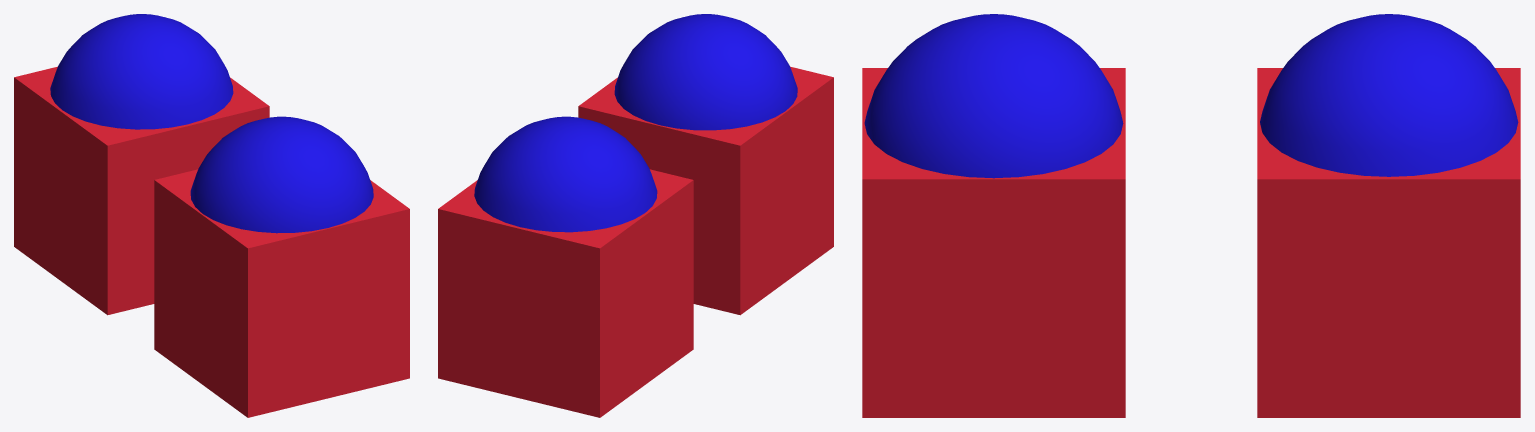
Rendered from MultiMatTest.fbx.
The picture shows the model from 3 angles, left to right: view 1: azimuth 30°, elevation 25°; view 2: azimuth 150°, elevation 25°; view 3: azimuth 270°, elevation 25°; orthographic projection. The views are drawn at different scales.
Visible parts, largest first — view 1: Sphere.001; view 2: Sphere.001; view 3: Sphere.001.
Boxes of the visible parts, <box> form: Sphere.001: <box>14,14,409,417</box>; Sphere.001: <box>438,14,833,417</box>; Sphere.001: <box>862,14,1520,417</box>.
Size of the model in its own units: 200 by 282 by 500.
